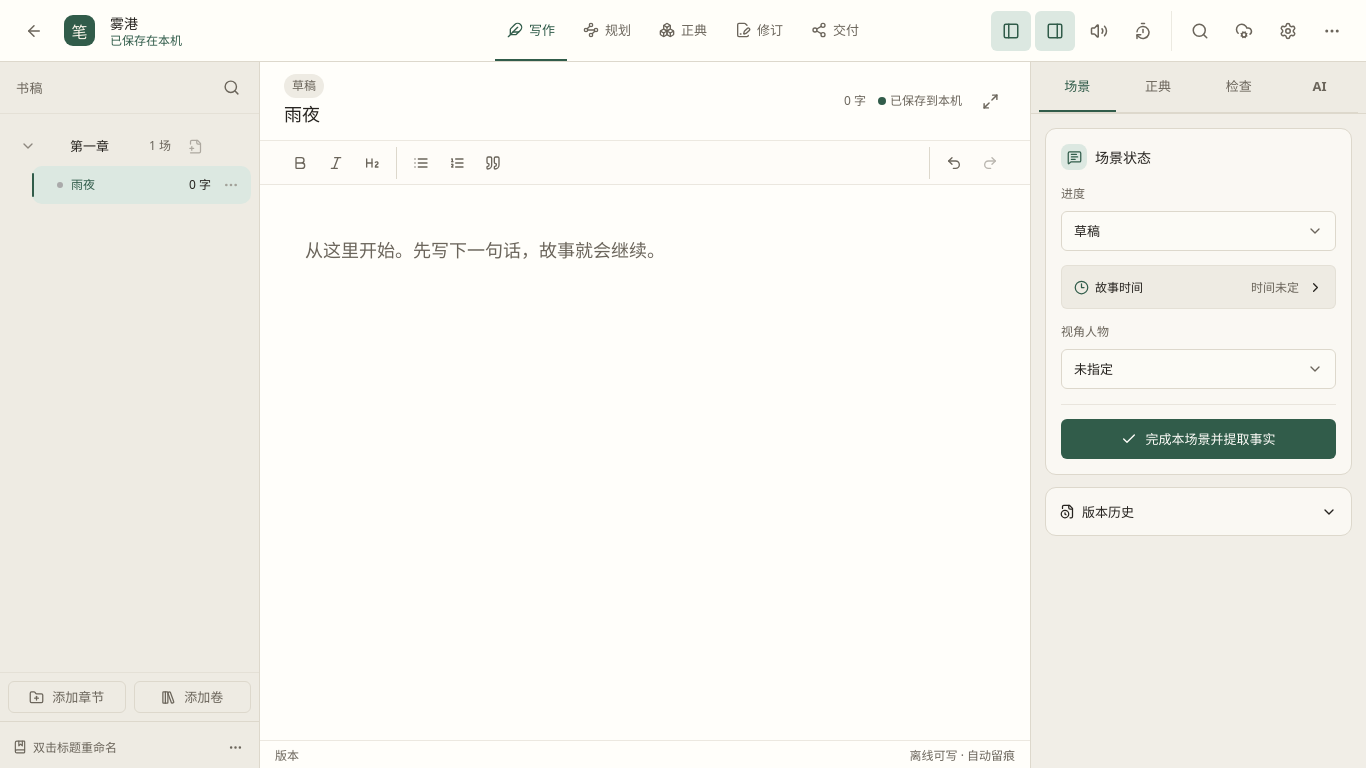
Workspace chrome › opens the project command palette with Mod+K and navigates to revision
Check: the navigation bar named "主要工作台" is shown, box top-left (495, 0), bottom-right (871, 61)
Type keys "{Control>}k{/Control}"
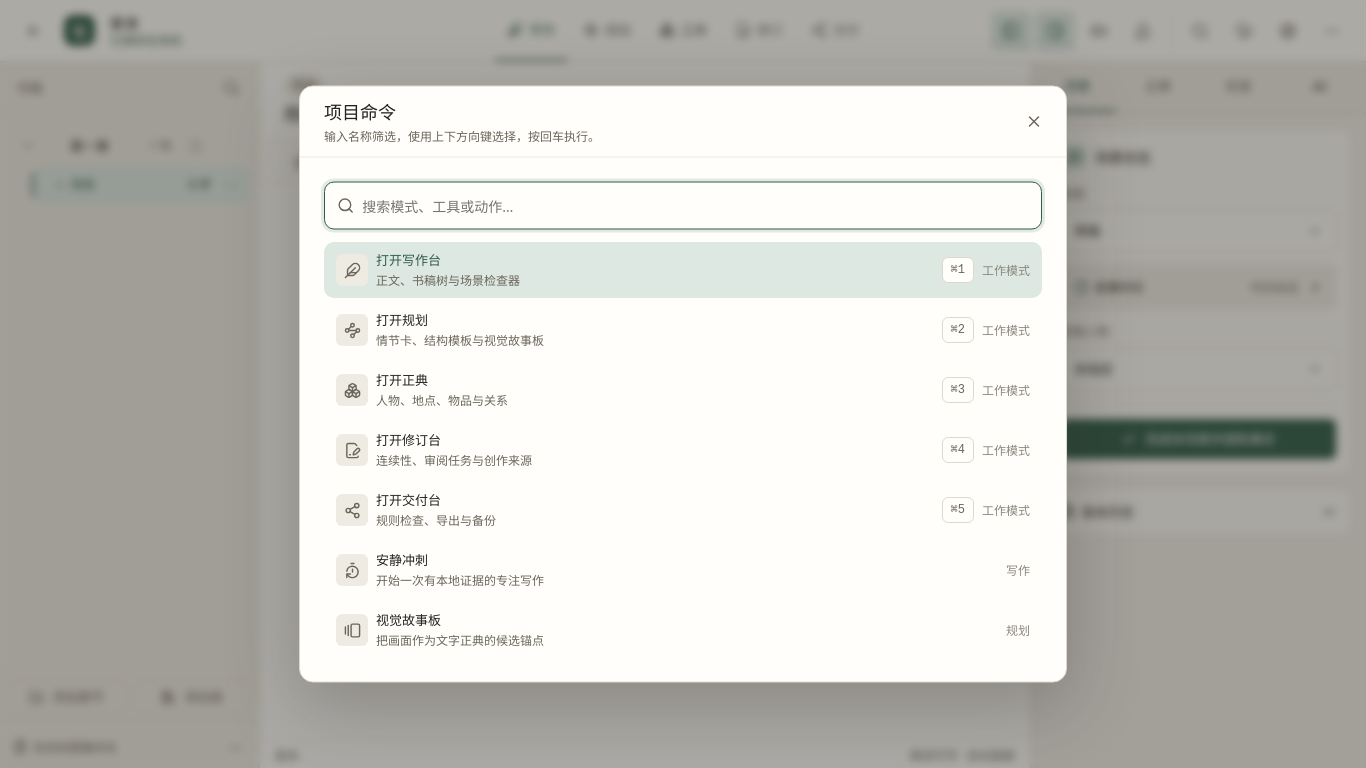
Check: the dialog "项目命令" is shown, box top-left (299, 86), bottom-right (1067, 682)
Click the option "打开修订台 连续性、审阅任务与创作来源 ⌘4 工作模式".
click(352, 450)  # box top-left (324, 422), bottom-right (1042, 478)
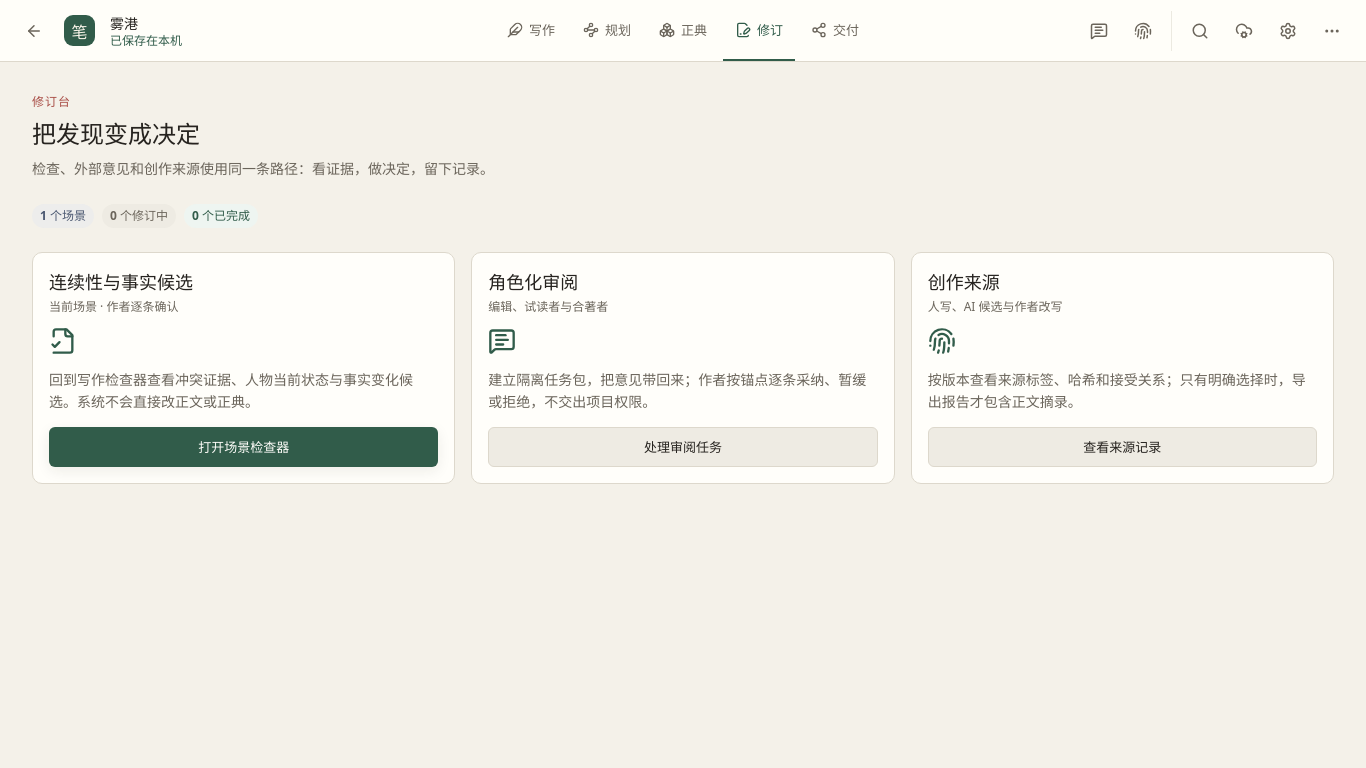
Check: the heading "把发现变成决定" is shown, box top-left (32, 118), bottom-right (200, 150)
